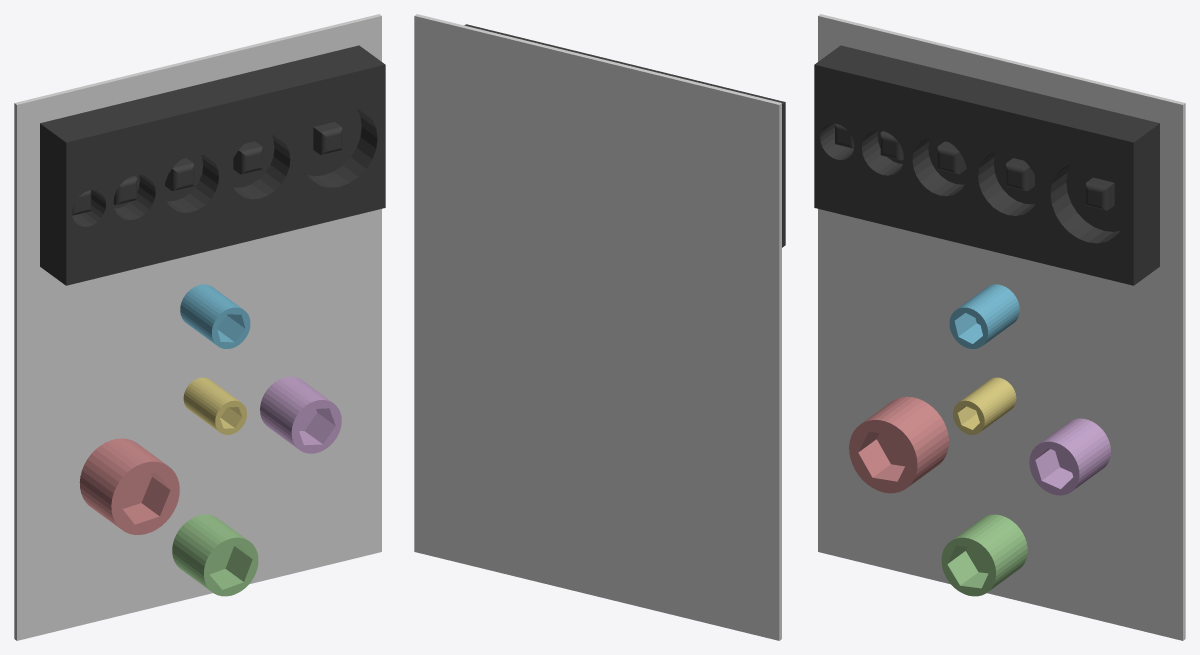
The model's file is pickup_layout.glb.
3 views of the same model, side by side, from view 1: azimuth 30°, elevation 25°; view 2: azimuth 150°, elevation 25°; view 3: azimuth 330°, elevation 25° (orthographic).
Visible parts, largest first — view 1: world, 0.obj, 5.obj, 4.obj, 3.obj, 2.obj, 1.obj; view 2: world, 0.obj; view 3: world, 0.obj, 5.obj, 4.obj, 3.obj, 2.obj, 1.obj.
Boxes of the visible parts, x1,y1,x2,y2 form: world: (14, 14, 381, 640); 0.obj: (40, 45, 385, 285); 5.obj: (79, 438, 179, 534); 4.obj: (172, 514, 258, 596); 3.obj: (260, 376, 341, 453); 2.obj: (180, 284, 250, 348); 1.obj: (183, 377, 246, 434); world: (414, 14, 781, 640); 0.obj: (464, 24, 785, 247); world: (818, 14, 1185, 640); 0.obj: (814, 45, 1159, 285); 5.obj: (849, 396, 948, 493); 4.obj: (941, 514, 1027, 596); 3.obj: (1029, 418, 1110, 495); 2.obj: (949, 284, 1019, 348); 1.obj: (953, 377, 1016, 434).
Size of the model in its own units: 16 by 22.45 by 2.6.
Materials: 1 (1 with a texture image).
